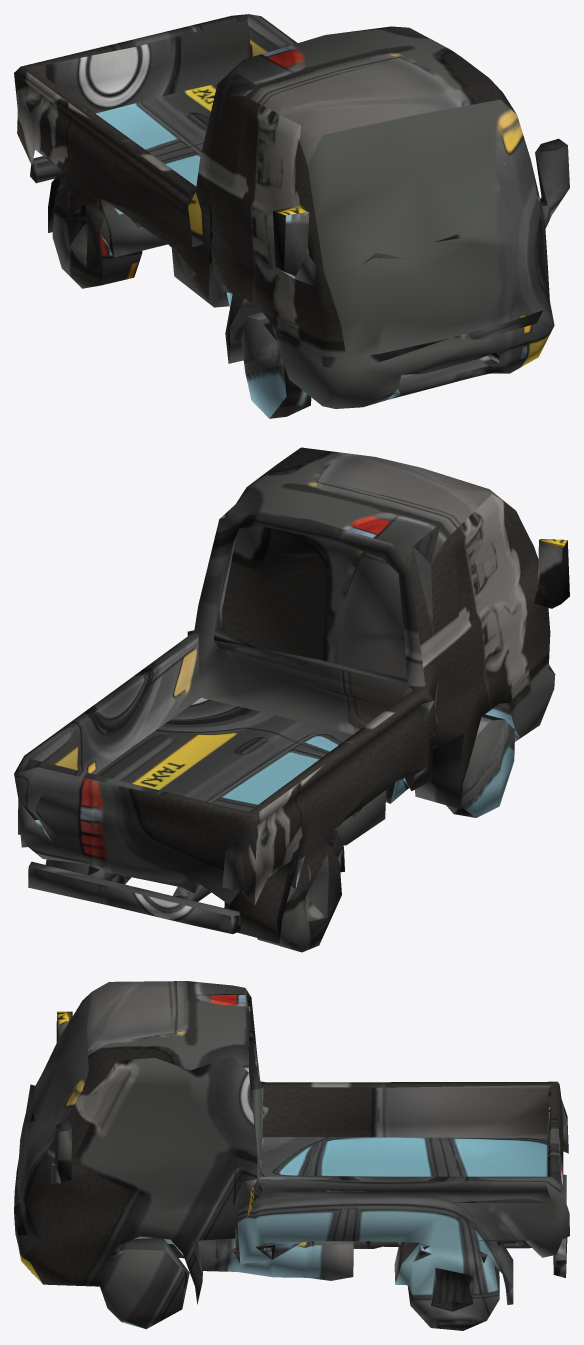
File: Truck.obj
3 renders of one model, top to bottom at view 1: azimuth 30°, elevation 25°; view 2: azimuth 150°, elevation 25°; view 3: azimuth 270°, elevation 25°, orthographic. The views are drawn at different scales.
Parts seen in each view (by area): view 1: material_0; view 2: material_0; view 3: material_0.
Boxes of the visible parts, x1,y1,x2,y2 form: material_0: (14,14,569,418); material_0: (14,447,569,952); material_0: (14,981,569,1330).
Size of the model in its own units: 0.5197 by 0.5297 by 1.
